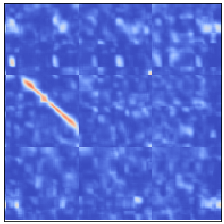action_path: (2, 75, 77, 149)
